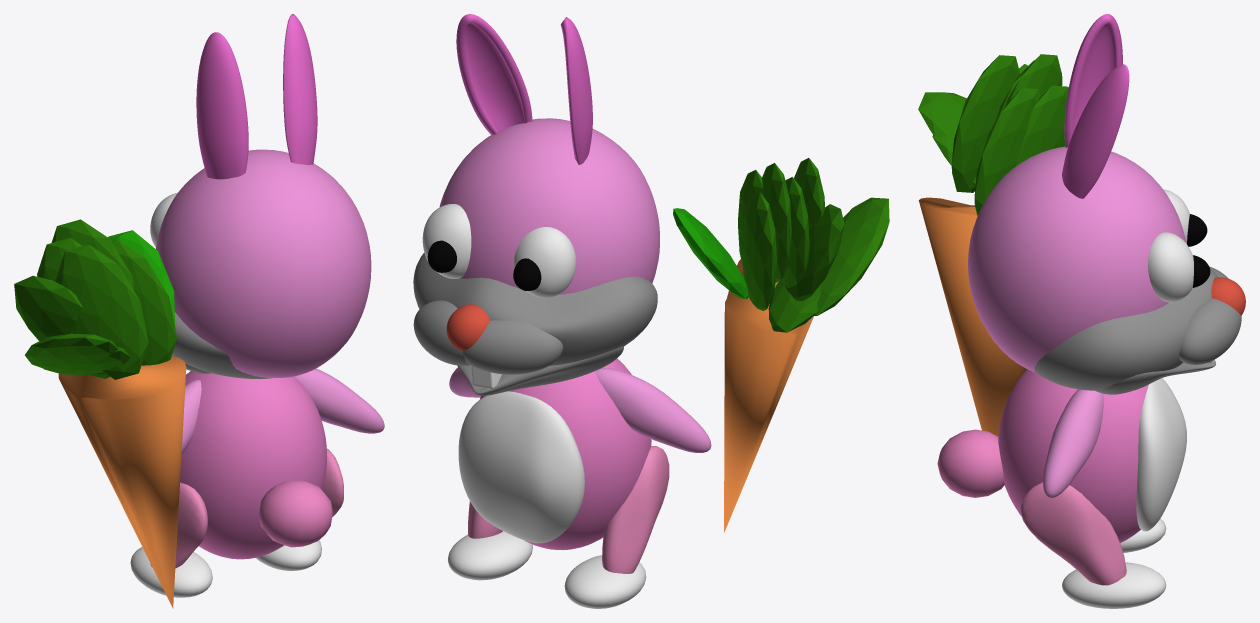
The model's file is rabbit.gltf.
The picture shows the model from 3 angles, left to right: view 1: azimuth 30°, elevation 25°; view 2: azimuth 150°, elevation 25°; view 3: azimuth 270°, elevation 25°; orthographic projection. The views are drawn at different scales.
Visible parts, largest first — view 1: Roundcube; view 2: Roundcube; view 3: Roundcube.
Boxes of the visible parts, box(x1,y1,x2,y2) form: Roundcube: box(14, 14, 384, 608); Roundcube: box(413, 14, 889, 608); Roundcube: box(918, 14, 1245, 608).
Bounding box in the file's own units: 5.71 × 7.88 × 4.21.
